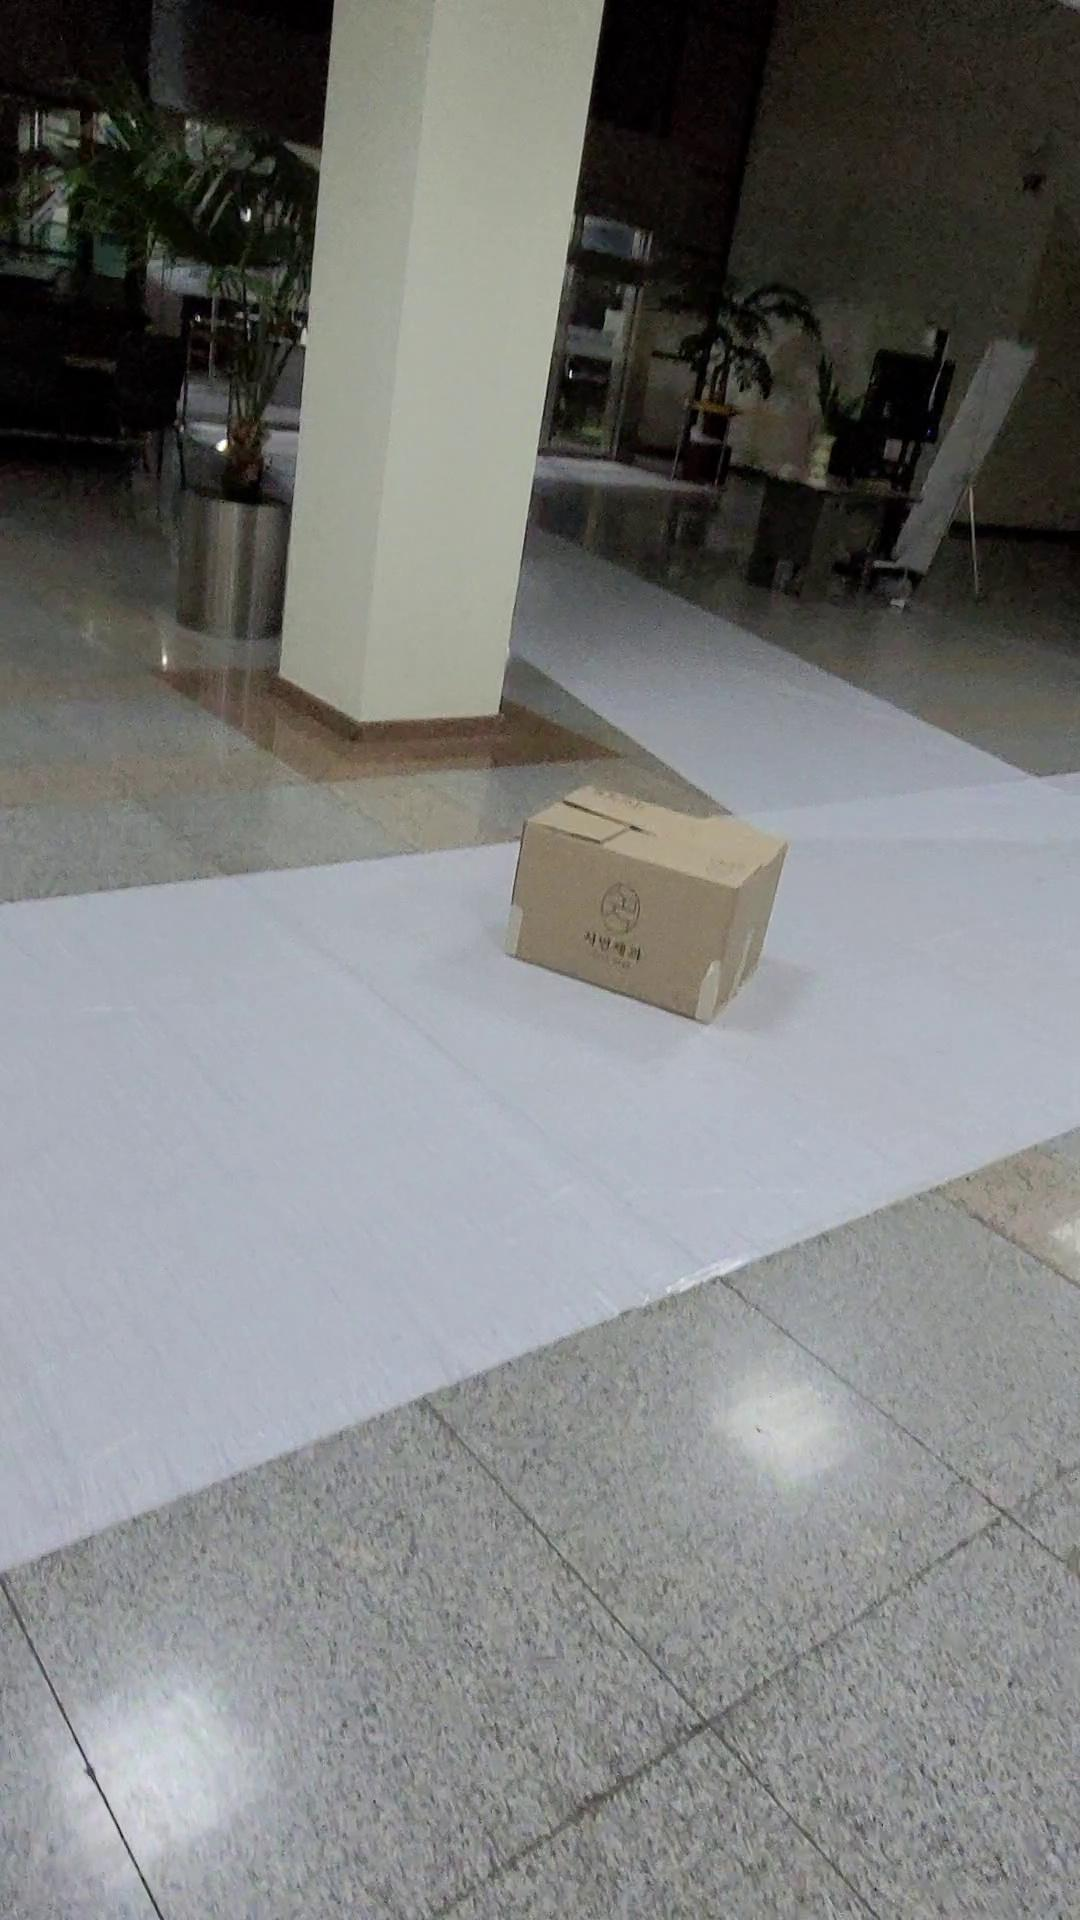Box: (493, 767, 807, 1044)
